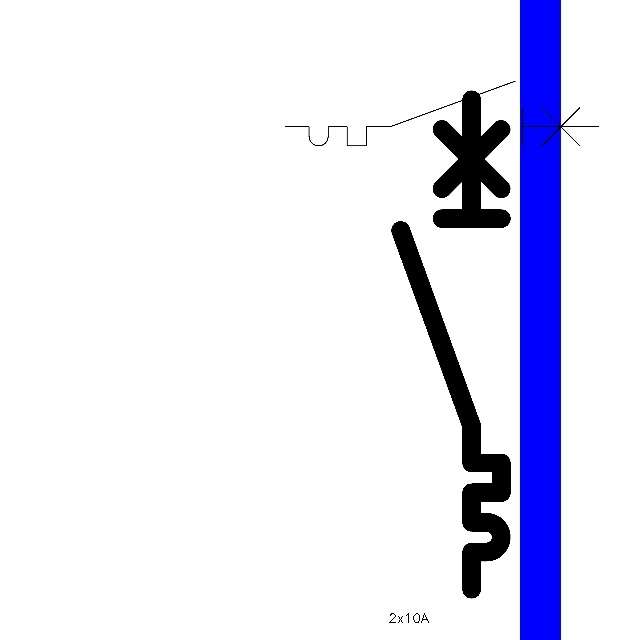interruptor_termomagnetico: (388, 87, 514, 602), (277, 73, 607, 154)
